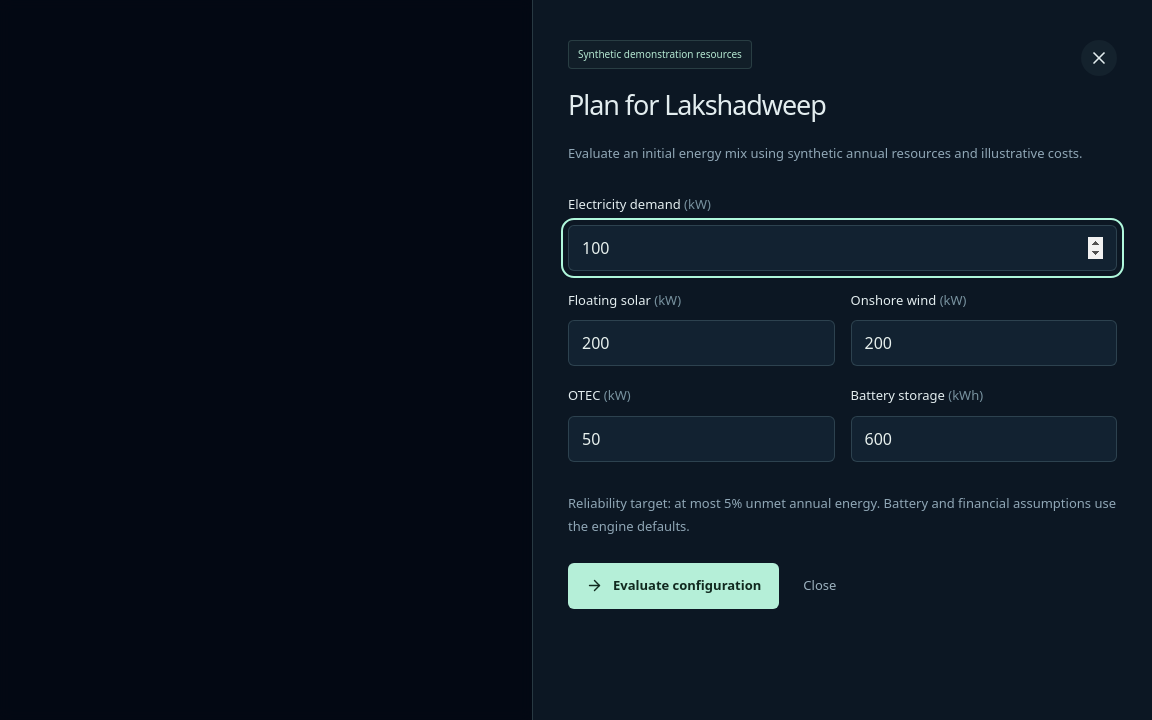
Test: PlanningPanel › shows a backend error and allows a successful retry
This screenshot has width=1152, height=720.
Click the button "Evaluate configuration". click: x=674, y=586
box: x1=568 y1=563 x2=779 y2=609
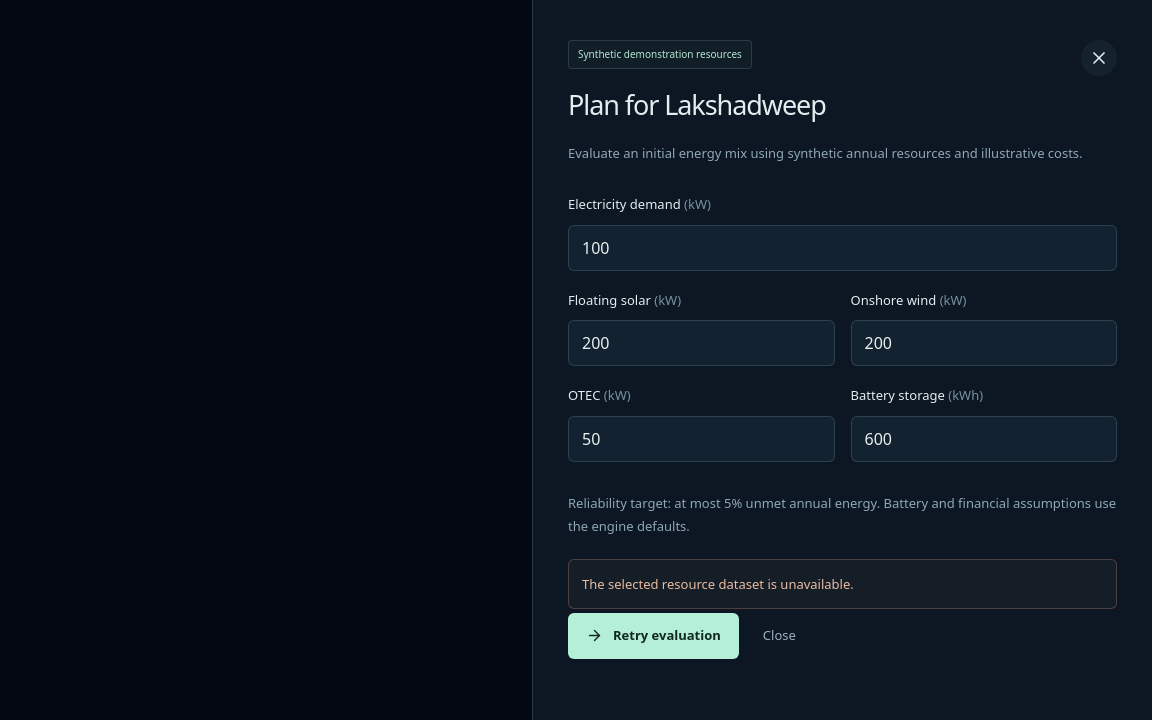
Expected: the heading "Modeled reliability target met" is not shown
Now the message reads "The selected resource dataset is unavailable.", box x1=582 y1=575 x2=854 y2=593
Click the button "Retry evaluation". click: x=653, y=636
box: x1=568 y1=613 x2=739 y2=659
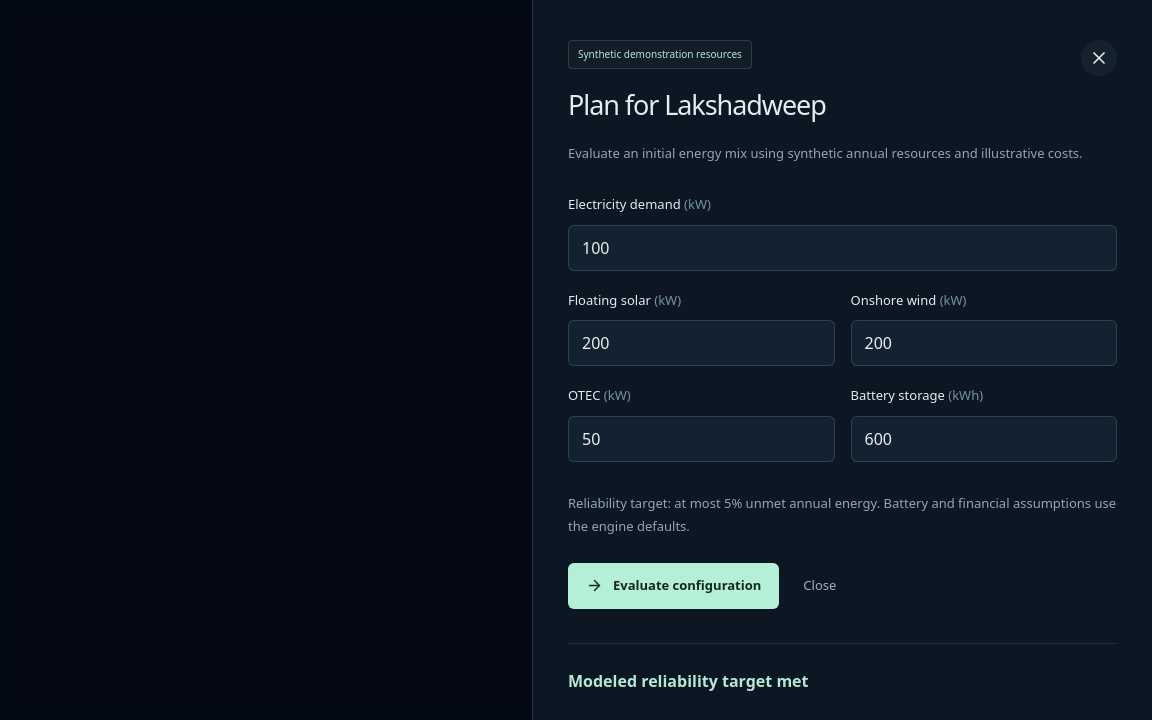
Now the heading "Modeled reliability target met" is shown, box x1=568 y1=670 x2=808 y2=692
